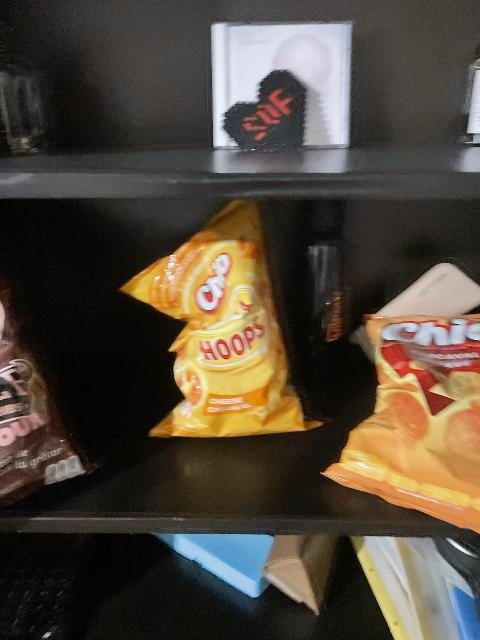Chio Cascaval 125g: (323, 312, 477, 548)
Chio Hula Hoops Cheese 70g: (119, 198, 324, 434)
Lays Beef Grilled Ribs 125g: (1, 277, 106, 508)
